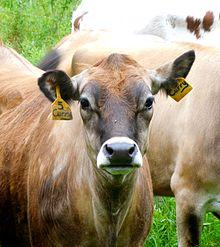muzzles: (94, 135, 148, 177)
